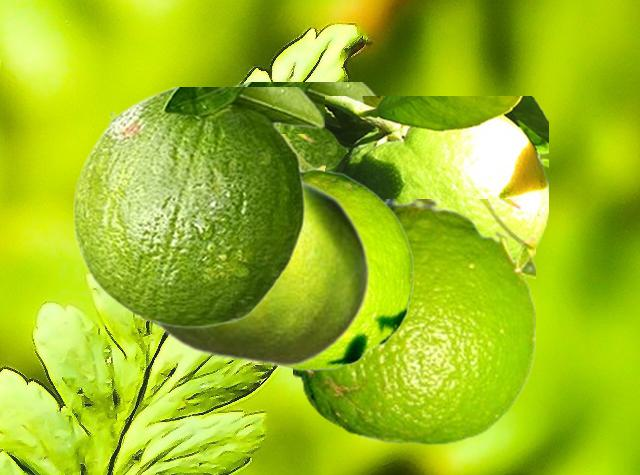dalandan: (72, 87, 324, 327), (293, 199, 534, 444), (154, 176, 370, 367), (325, 96, 547, 257), (275, 168, 413, 370), (225, 82, 377, 169)
